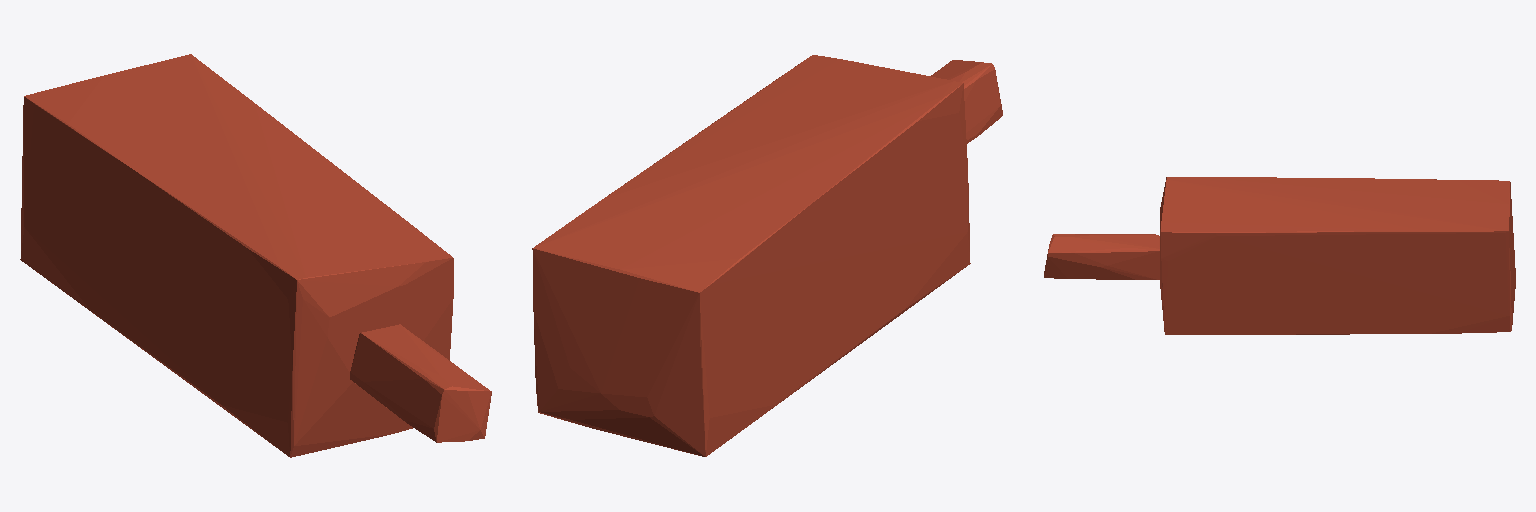
robot.urdf — blob597:
<robot name="blob597">
  <link name="random_obj_597">
    <contact>
      <lateral_friction value="1.0"/>
      <rolling_friction value="0.0"/>
      <inertia_scaling value="3.0"/>
      <contact_cfm value="0.0"/>
      <contact_erp value="1.0"/>
    </contact>
    <inertial>
      <origin rpy="0 0 0" xyz="0 0 0"/>
      <mass value="0.1"/>
      <inertia ixx="1" ixy="0" ixz="0" iyy="1" iyz="0" izz="0"/>
    </inertial>
    <visual>
      <origin rpy="0 0 0" xyz="0 0 0"/>
      <geometry>
        <mesh filename="597.obj" scale="0.015 0.015 0.015"/>
      </geometry>
      <material name="blockmat">
        <color rgba="0.73 0.34 0.25 1"/>
      </material>
    </visual>
    <collision>
      <origin rpy="0 0 0" xyz="0 0 0"/>
      <geometry>
        <mesh filename="597.obj" scale="0.015 0.015 0.015"/>
      </geometry>
    </collision>
  </link>
</robot>

--- Render facts (derived) ---
3 views of the same robot in one strip: view 1: azimuth 30°, elevation 25°; view 2: azimuth 150°, elevation 25°; view 3: azimuth 270°, elevation 25° (orthographic).
Robot: blob597 — 1 links, 0 joints (none); root link random_obj_597; default pose: every joint at zero.
Links seen in each view (by area): view 1: random_obj_597; view 2: random_obj_597; view 3: random_obj_597.
Link boxes in pixels (left/top/right/bottom): random_obj_597: left=20, top=54, right=491, bottom=457; random_obj_597: left=532, top=55, right=1002, bottom=456; random_obj_597: left=1044, top=177, right=1515, bottom=334.
Bounding box of the posed robot: 0.0332 × 0.1232 × 0.0328 m (x, y, z).
1 mesh visuals loaded from 1 distinct referenced files (1 OBJ).